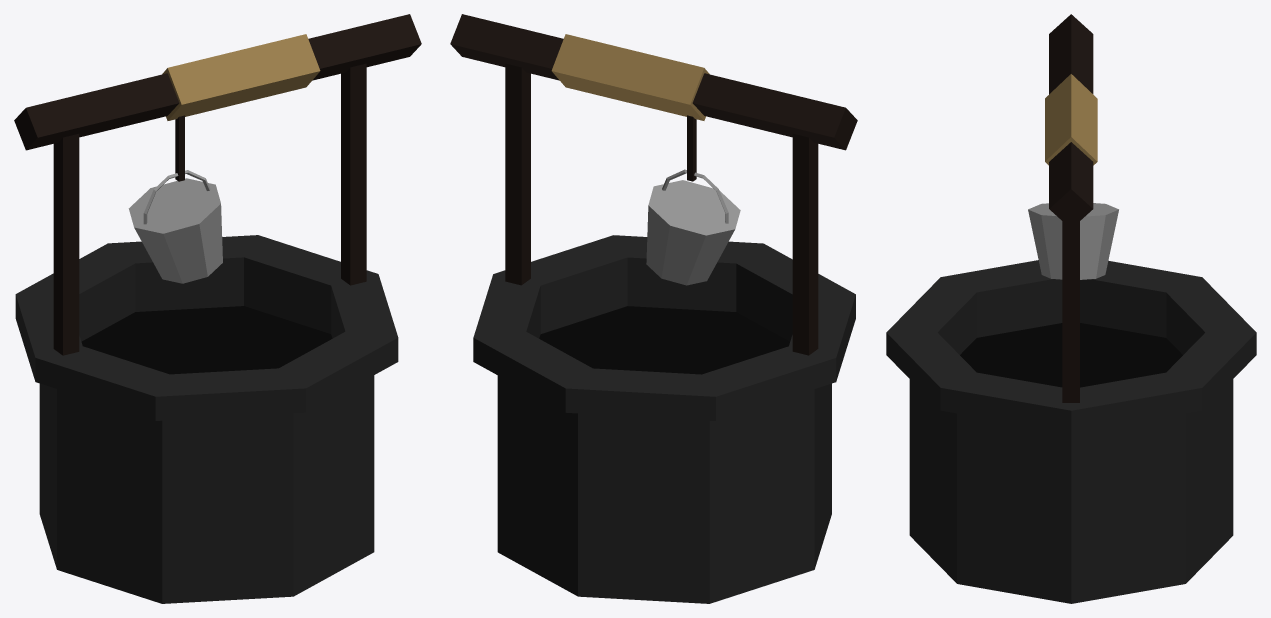
File: Well.FBX
The picture shows the model from 3 angles, left to right: view 1: azimuth 30°, elevation 25°; view 2: azimuth 150°, elevation 25°; view 3: azimuth 270°, elevation 25°; orthographic projection. The views are drawn at different scales.
Parts seen in each view (by area): view 1: Well; view 2: Well; view 3: Well.
Part boxes in pixels (x1,y1,x2,y2): Well: (14, 14, 421, 603); Well: (450, 14, 857, 603); Well: (886, 14, 1256, 603).
Bounding box in the file's own units: 1.4 × 1.66 × 1.25.
